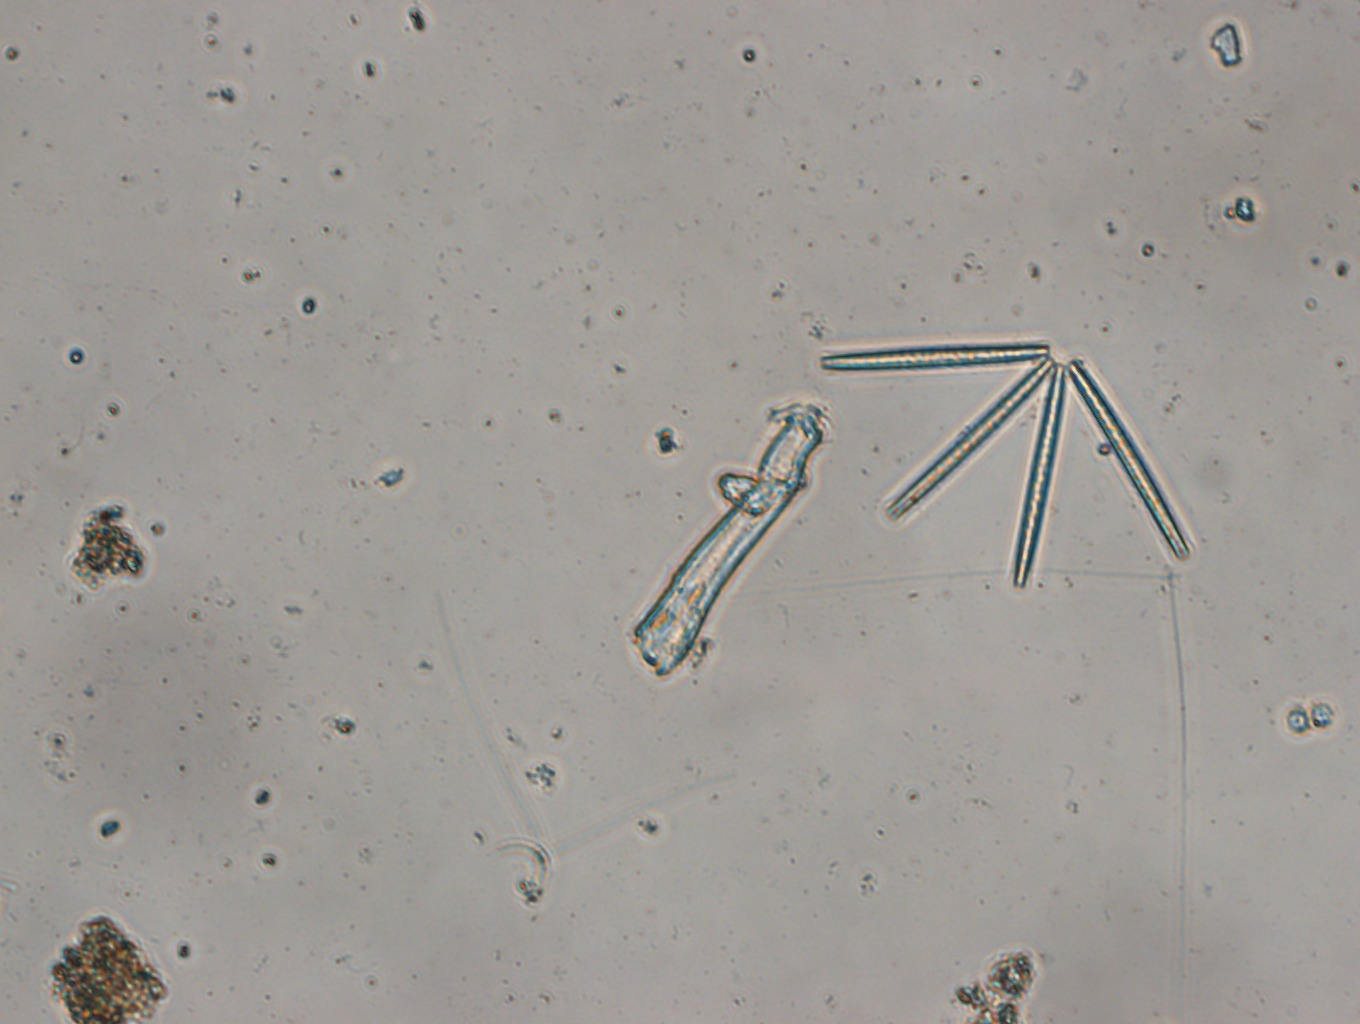thalassionema frauenfeldii: (825, 323, 1219, 591)
